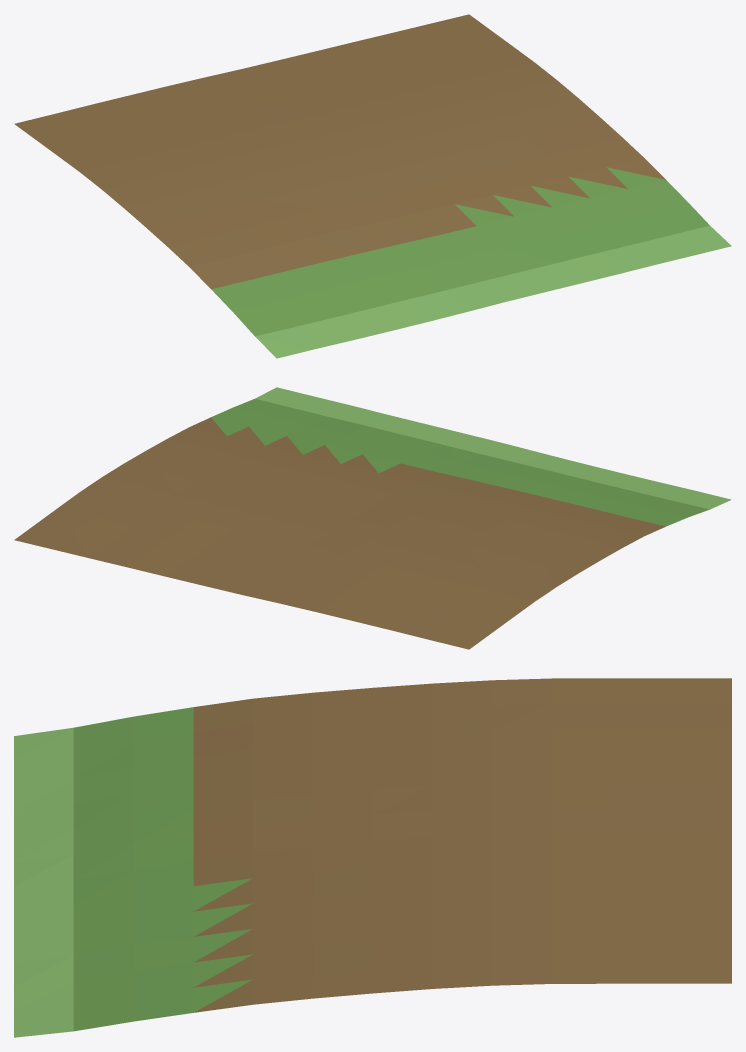
File: chunk_1_-1.obj
3 views of the same model, one above another, from view 1: azimuth 30°, elevation 25°; view 2: azimuth 150°, elevation 25°; view 3: azimuth 270°, elevation 25° (orthographic). The views are drawn at different scales.
Parts seen in each view (by area): view 1: dirt, grass_a, grass_b; view 2: dirt, grass_a, grass_b; view 3: dirt, grass_a, grass_b.
Boxes of the visible parts, x1,y1,x2,y2 form: dirt: (14,14,665,289); grass_a: (211,167,709,336); grass_b: (255,225,731,358); dirt: (14,417,665,649); grass_a: (211,399,709,526); grass_b: (255,387,731,509); dirt: (193,678,731,1012); grass_a: (73,707,252,1031); grass_b: (14,727,73,1037).
Size of the model in its own units: 16 by 1.44 by 16.
